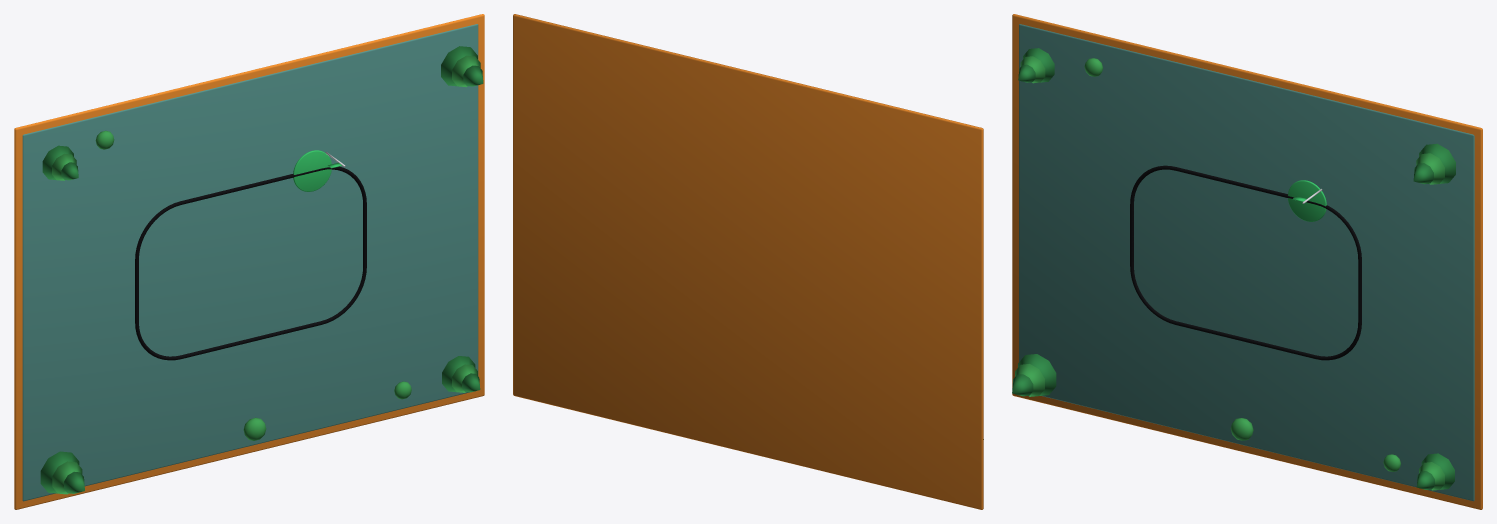
Rendered from carthabot_simworld.obj.
3 views of the same model, side by side, from view 1: azimuth 30°, elevation 25°; view 2: azimuth 150°, elevation 25°; view 3: azimuth 330°, elevation 25° (orthographic).
Parts seen in each view (by area): view 1: PlayMat, MatRim, LineLoop, StartPad, TreeLeaf_2_0, TreeLeaf_0_0, TreeLeaf_2_1; view 2: MatRim; view 3: PlayMat, MatRim, LineLoop, StartPad, TreeLeaf_2_0, TreeLeaf_0_0.
Boxes of the visible parts, x1,y1,x2,y2 form: PlayMat: [22, 24, 478, 501]; MatRim: [14, 14, 484, 509]; LineLoop: [135, 166, 366, 360]; StartPad: [293, 150, 331, 191]; TreeLeaf_2_0: [40, 451, 79, 493]; TreeLeaf_0_0: [441, 46, 477, 86]; TreeLeaf_2_1: [52, 461, 82, 494]; MatRim: [513, 14, 983, 509]; PlayMat: [1019, 24, 1474, 501]; MatRim: [1012, 14, 1482, 509]; LineLoop: [1130, 165, 1361, 360]; StartPad: [1288, 180, 1326, 221]; TreeLeaf_2_0: [1018, 354, 1056, 395]; TreeLeaf_0_0: [1419, 143, 1455, 183].
Size of the model in its own units: 26.8 by 20.8 by 3.6.
